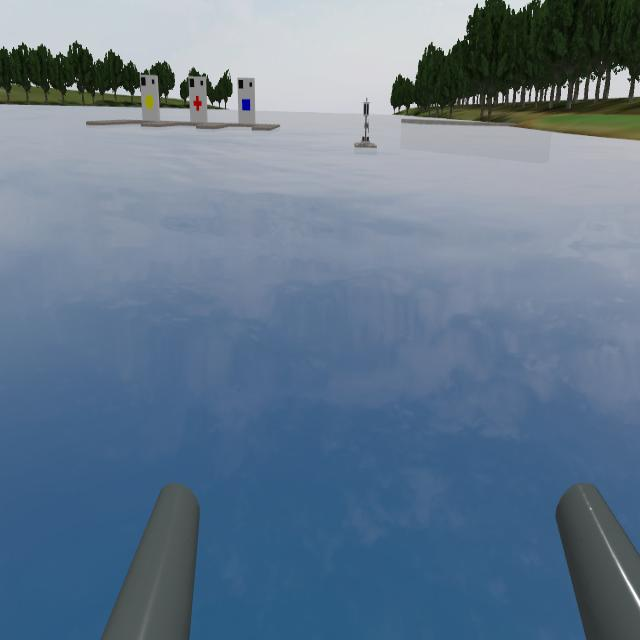blue_pole: (360, 97, 375, 128)
